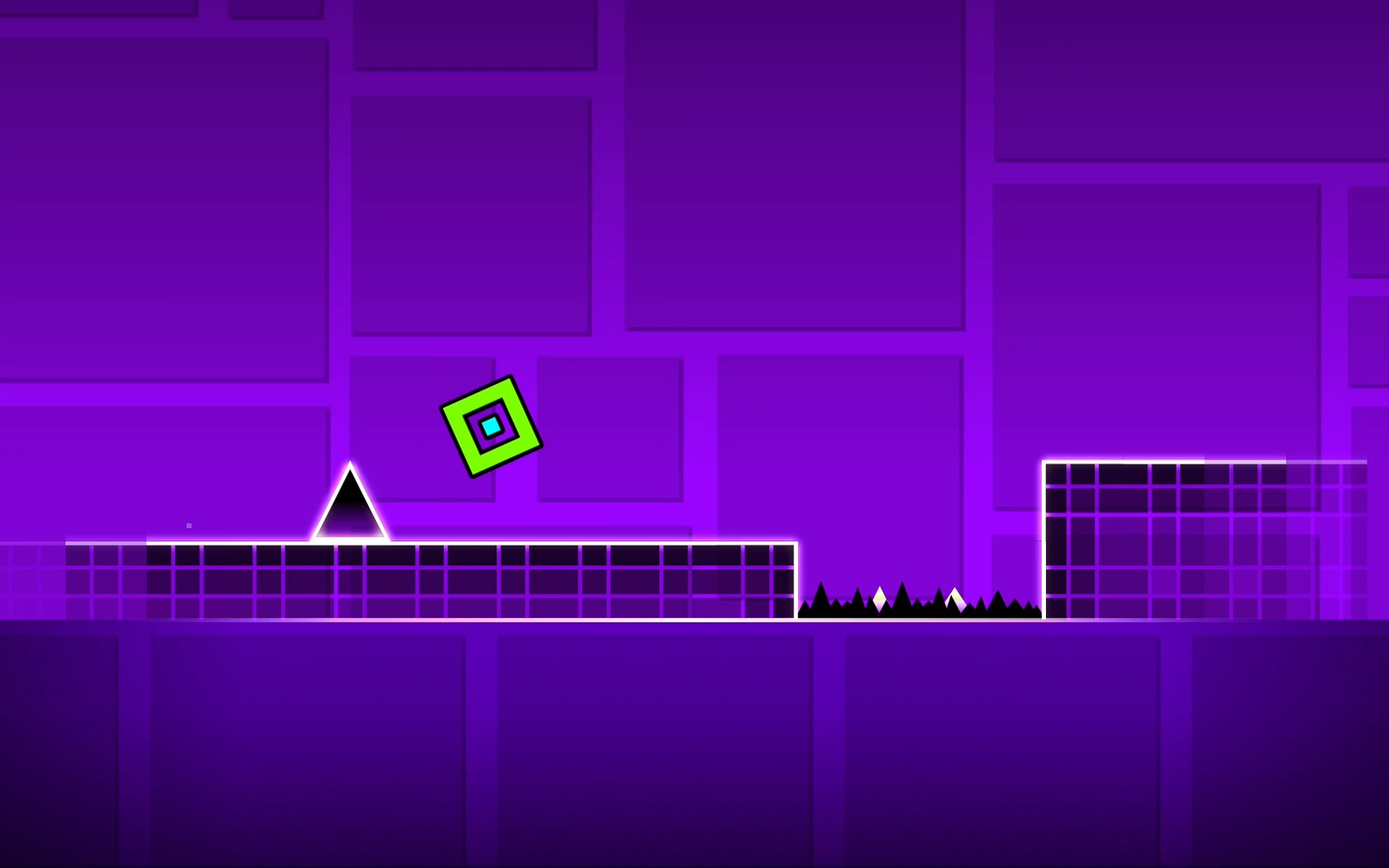Block2: (0, 540, 793, 614), (1039, 460, 1370, 620)
Player: (440, 375, 543, 477)
Spike: (312, 461, 389, 538)
Spike3: (800, 581, 1043, 623)
